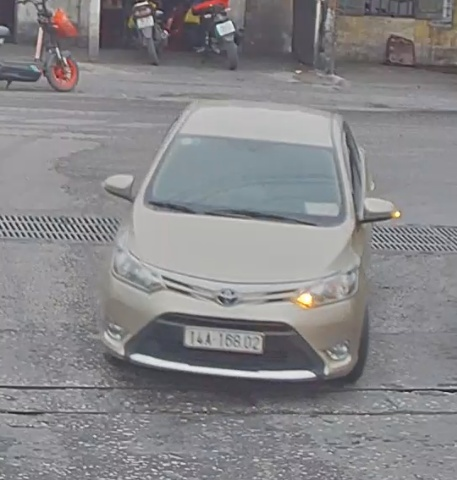vehicle plate: (170, 316, 267, 354)
